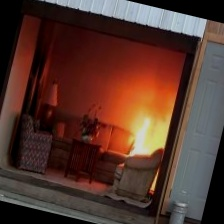fire: (128, 103, 163, 150)
